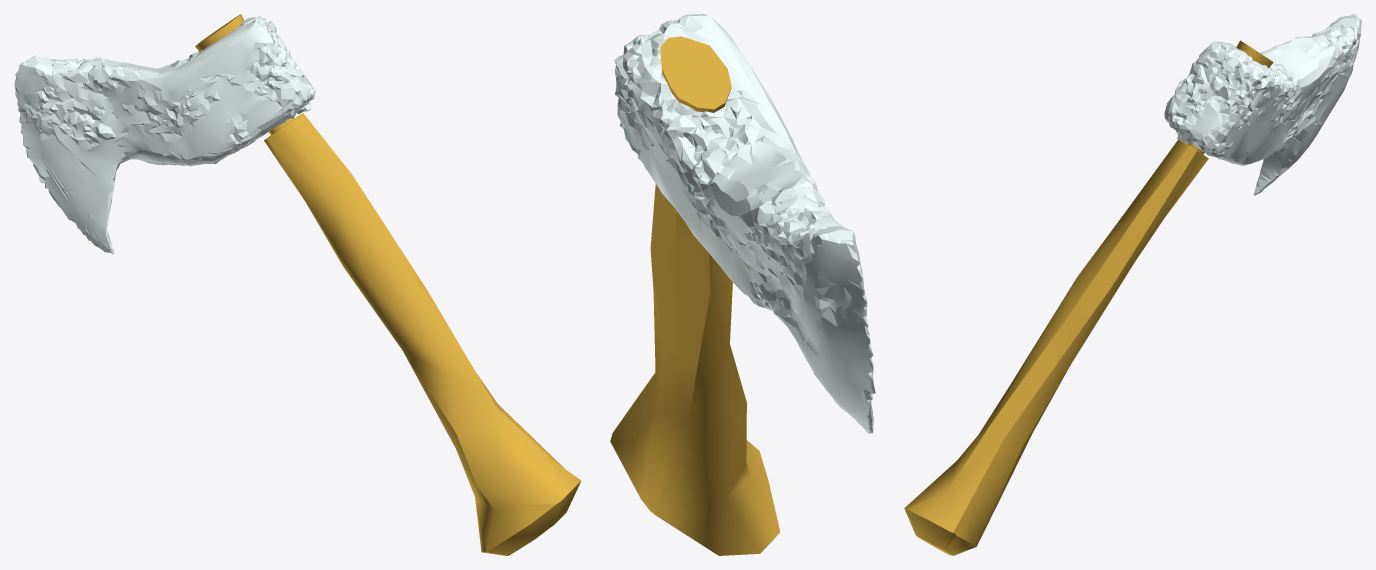
File: axe-iron-12.glb
3 views of the same model, side by side, from view 1: azimuth 30°, elevation 25°; view 2: azimuth 150°, elevation 25°; view 3: azimuth 270°, elevation 25° (orthographic). The views are drawn at different scales.
Visible parts, largest first — view 1: iron-axe-head, iron-axe; view 2: iron-axe-head, iron-axe; view 3: iron-axe, iron-axe-head.
Part boxes in pixels (x1,y1,x2,y2): iron-axe-head: (14,16,315,254); iron-axe: (195,14,581,555); iron-axe-head: (614,14,875,433); iron-axe: (610,36,780,555); iron-axe: (904,40,1273,555); iron-axe-head: (1164,14,1361,195).
Bounding box in the file's own units: 0.7047 × 0.8657 × 0.787.
